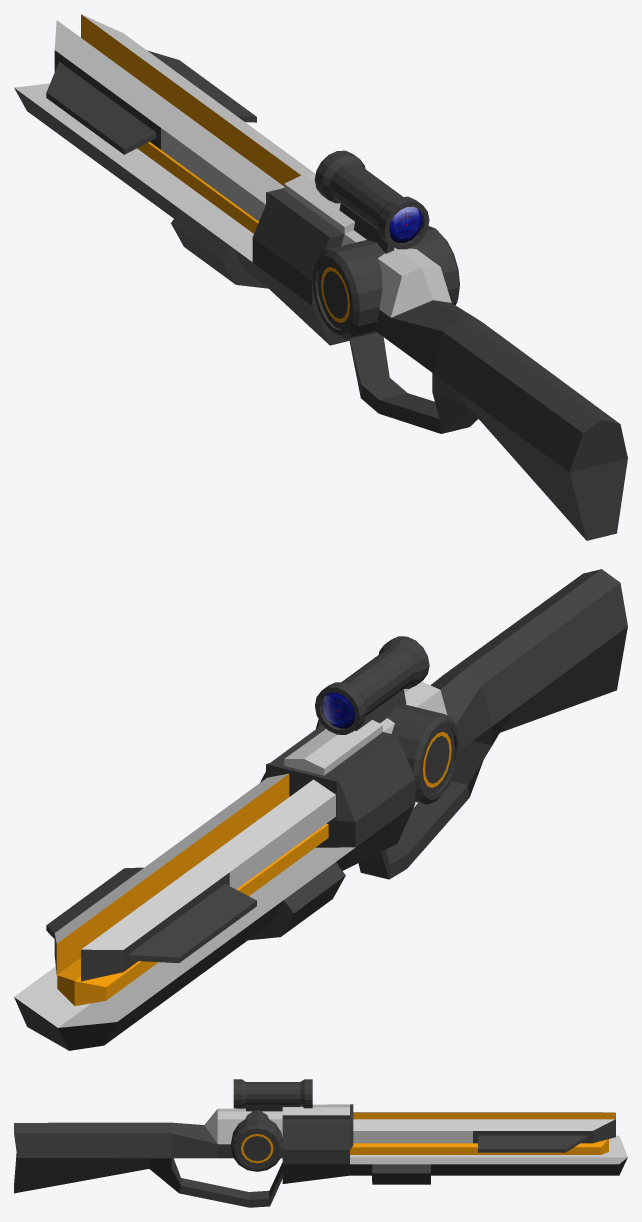
Rendered from railgun.glb.
3 views of the same model, one above another, from view 1: azimuth 30°, elevation 25°; view 2: azimuth 150°, elevation 25°; view 3: azimuth 270°, elevation 25° (orthographic). The views are drawn at different scales.
Parts seen in each view (by area): view 1: Cube; view 2: Cube; view 3: Cube.
Boxes of the visible parts, x1,y1,x2,y2 form: Cube: [14, 14, 627, 540]; Cube: [14, 569, 627, 1050]; Cube: [14, 1079, 627, 1207].
Bounding box in the file's own units: 0.5517 × 0.8671 × 3.91.
Materials: 2 (2 with a texture image).
